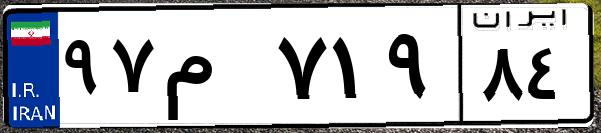1: (330, 28, 385, 110)
4: (525, 38, 570, 115)
7: (270, 28, 330, 110), (110, 28, 158, 98)
8: (475, 38, 525, 113)
9: (385, 28, 445, 110), (57, 26, 110, 100)
م: (158, 20, 270, 120)
